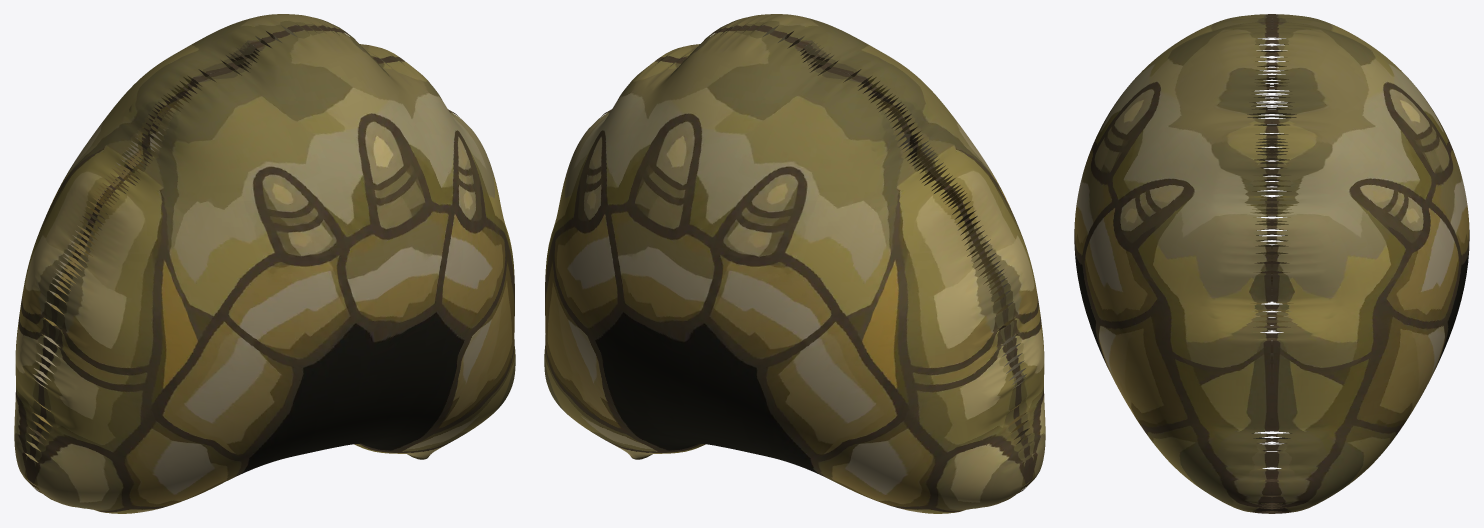
File: stone_cave_gate.glb
The picture shows the model from 3 angles, left to right: view 1: azimuth 30°, elevation 25°; view 2: azimuth 150°, elevation 25°; view 3: azimuth 270°, elevation 25°; orthographic projection. The views are drawn at different scales.
Parts seen in each view (by area): view 1: stone_cave_gate; view 2: stone_cave_gate; view 3: stone_cave_gate.
Part boxes in pixels (x1=…): stone_cave_gate: x1=14, y1=14, x2=515, y2=513; stone_cave_gate: x1=544, y1=14, x2=1045, y2=513; stone_cave_gate: x1=1074, y1=14, x2=1469, y2=513.
Bounding box in the file's own units: 0.9889 × 0.8716 × 0.759.
Materials: 1 (1 with a texture image).
